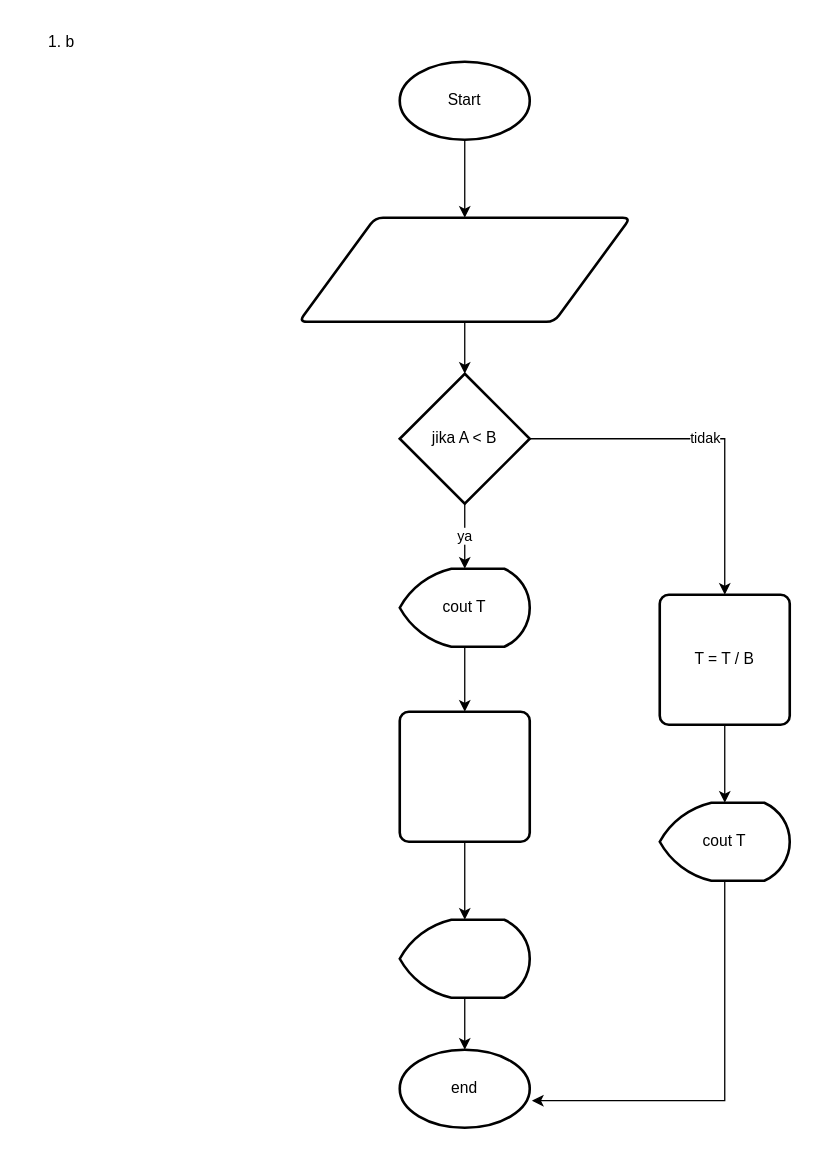
This 813x1151 diagram has some shape labels left out. Each missing label, with the centre of its shape:
"A = A * T" belongs at (464,776).
"cout A" belongs at (464,958).
"int T = 50, A = 10, B = 5" belongs at (464,269).
